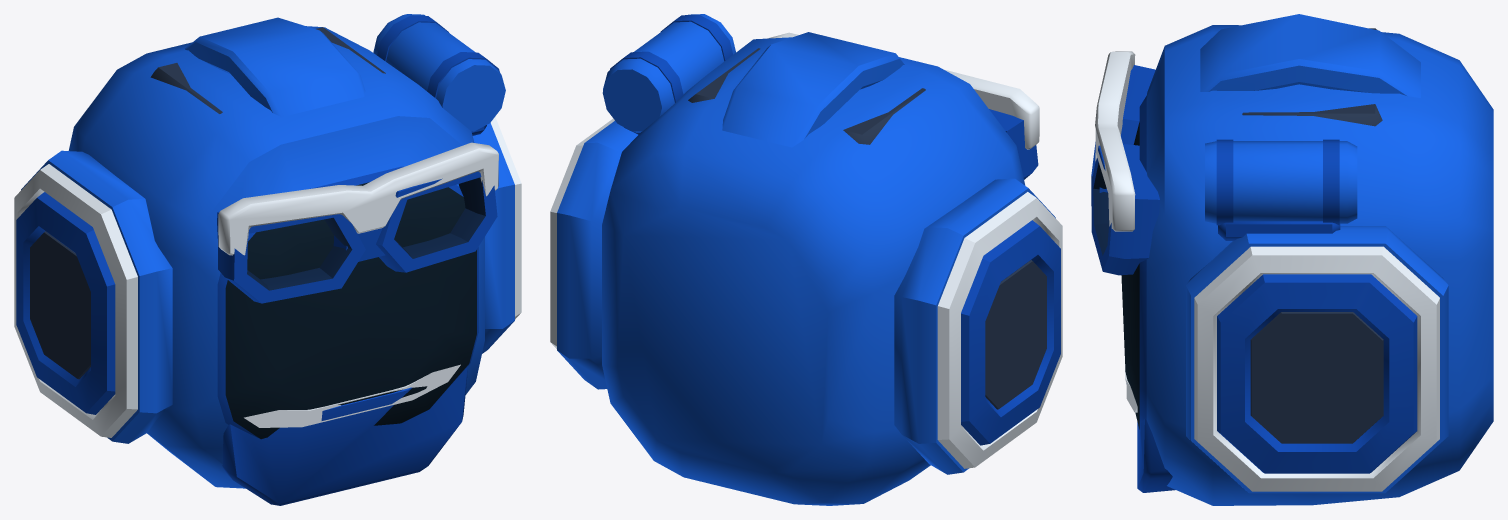
The model's file is blockout.glb.
3 renders of one model, left to right at view 1: azimuth 30°, elevation 25°; view 2: azimuth 150°, elevation 25°; view 3: azimuth 270°, elevation 25°, orthographic. The views are drawn at different scales.
Visible parts, largest first — view 1: security_model; view 2: security_model; view 3: security_model.
Part boxes in pixels (x1,y1,x2,y2): security_model: (14, 14, 521, 505); security_model: (550, 14, 1062, 505); security_model: (1091, 14, 1493, 505).
Bounding box in the file's own units: 2.58 × 2.36 × 2.01.
1 material, 1 textured.
